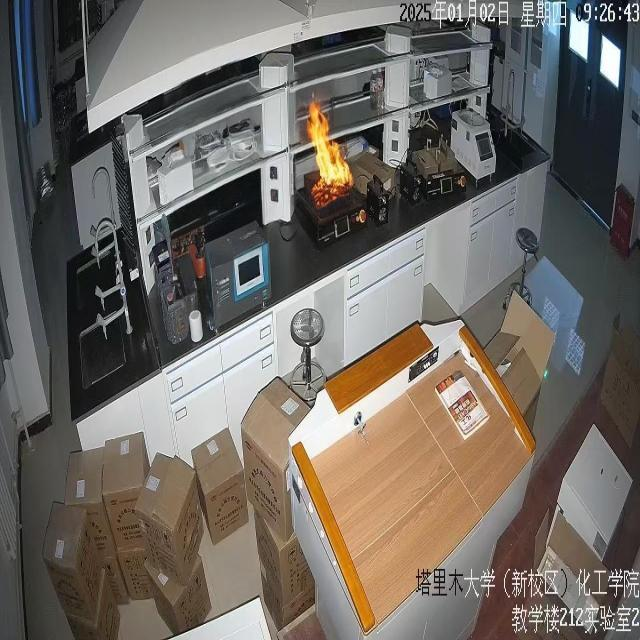smoke: (306, 96, 352, 199)
